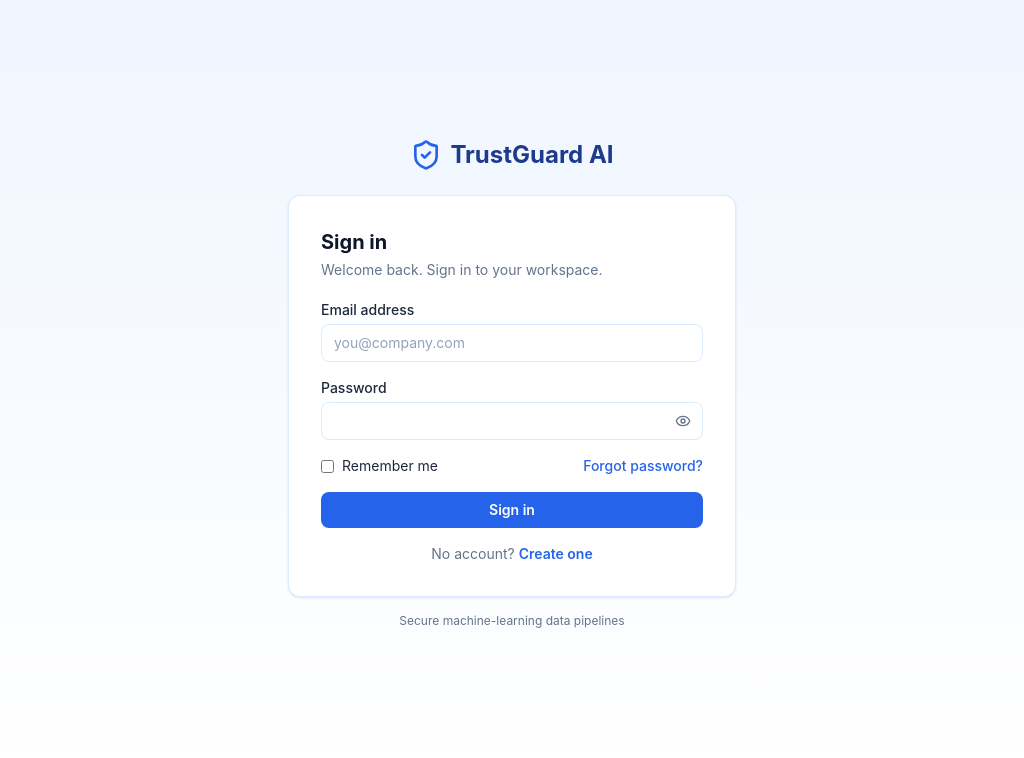
Test: login › validates input then signs in via the backend
Step 1. Click the button "Sign in" → (512, 510), box [321, 492, 703, 528]
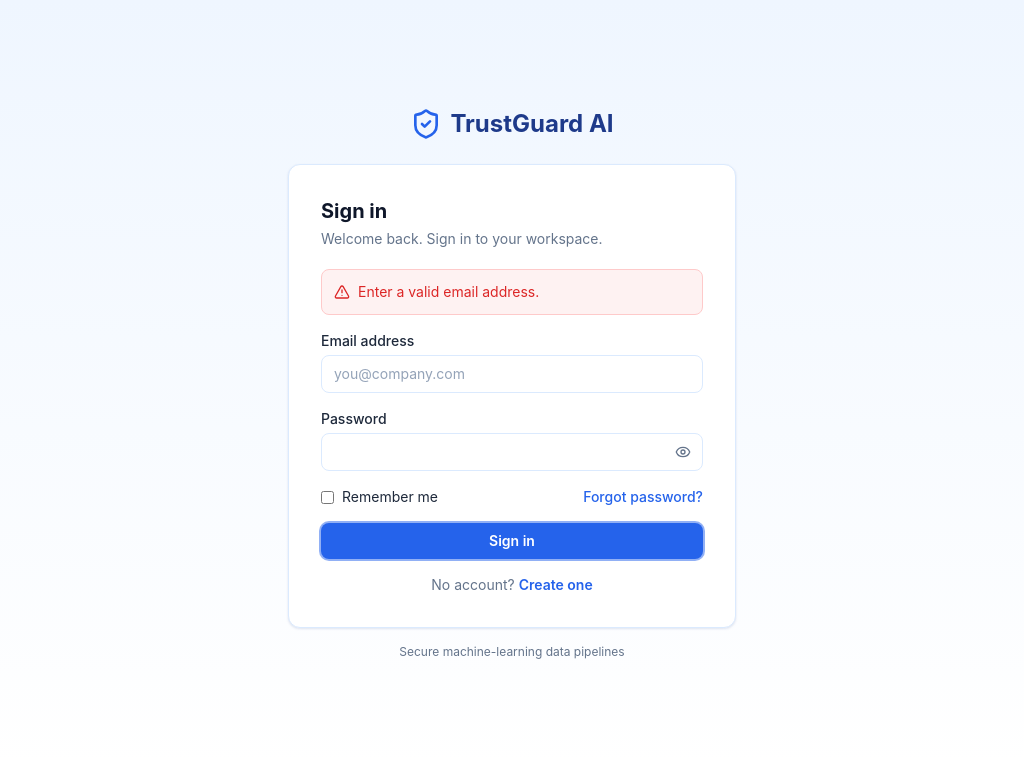
Expected: the text "Enter a valid email address." is shown, [358, 282, 539, 302]
Step 2. Type "a@b.com" into the field labelled "Email address" → (512, 374), box [321, 355, 703, 393]
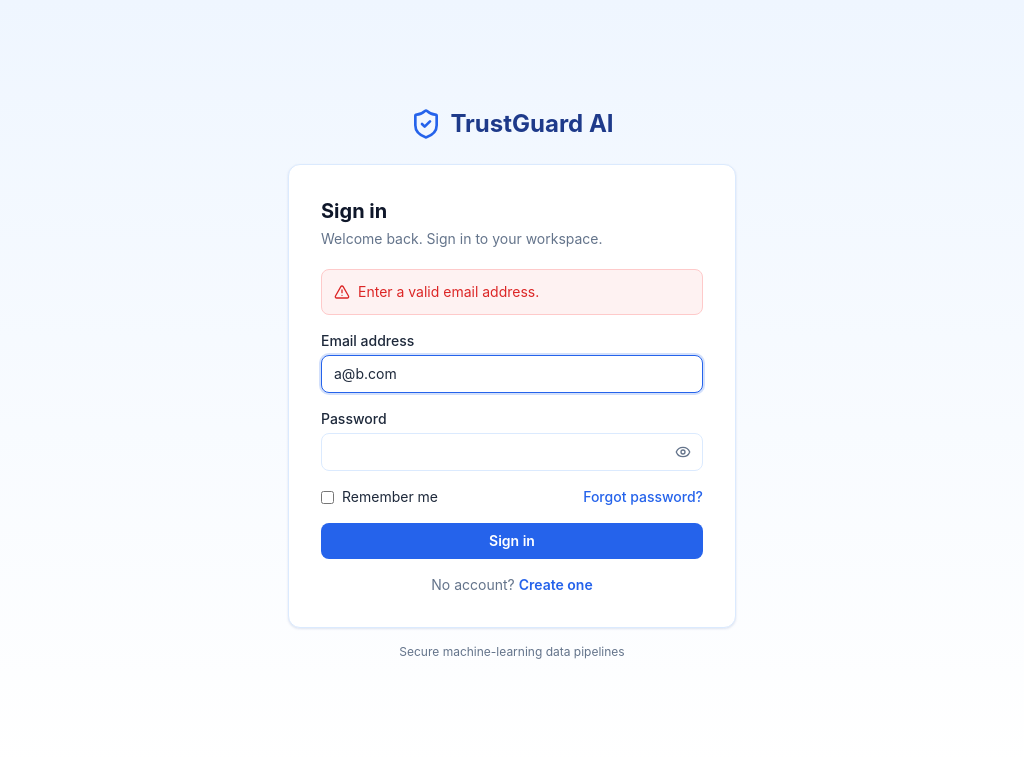
Step 3. Type "Str0ng!Passw0rd" into the password field labelled "Password" → (512, 452), box [321, 433, 703, 471]
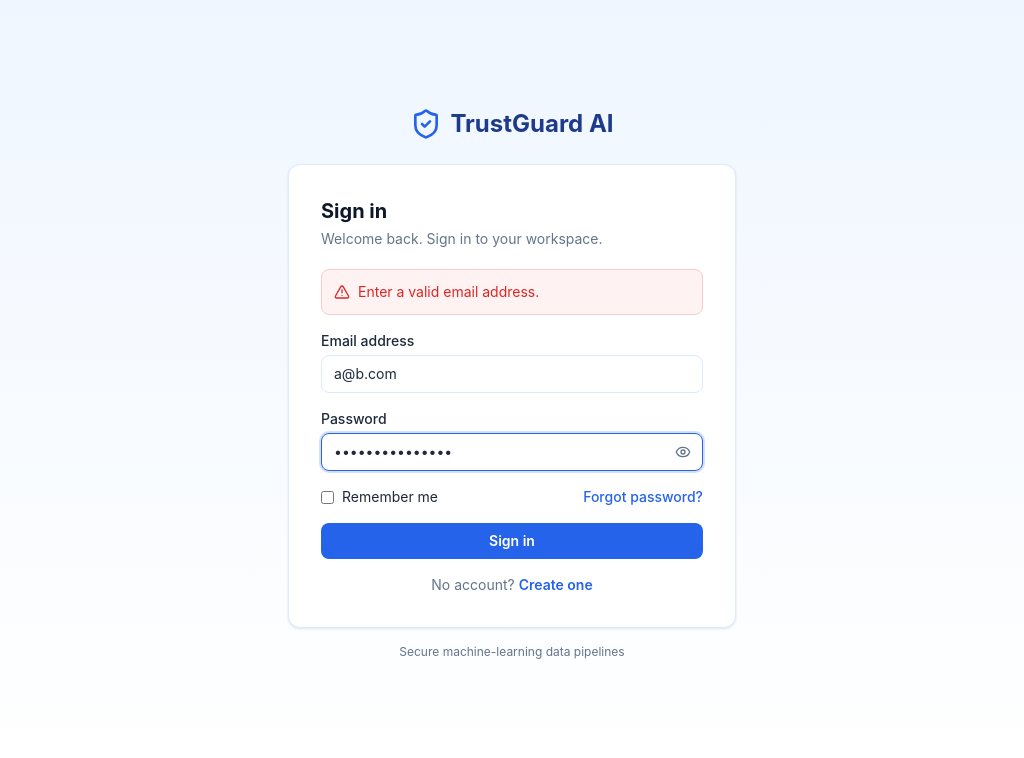
Step 4. Click the checkbox labelled "Remember me" → (328, 497), box [321, 490, 334, 504]
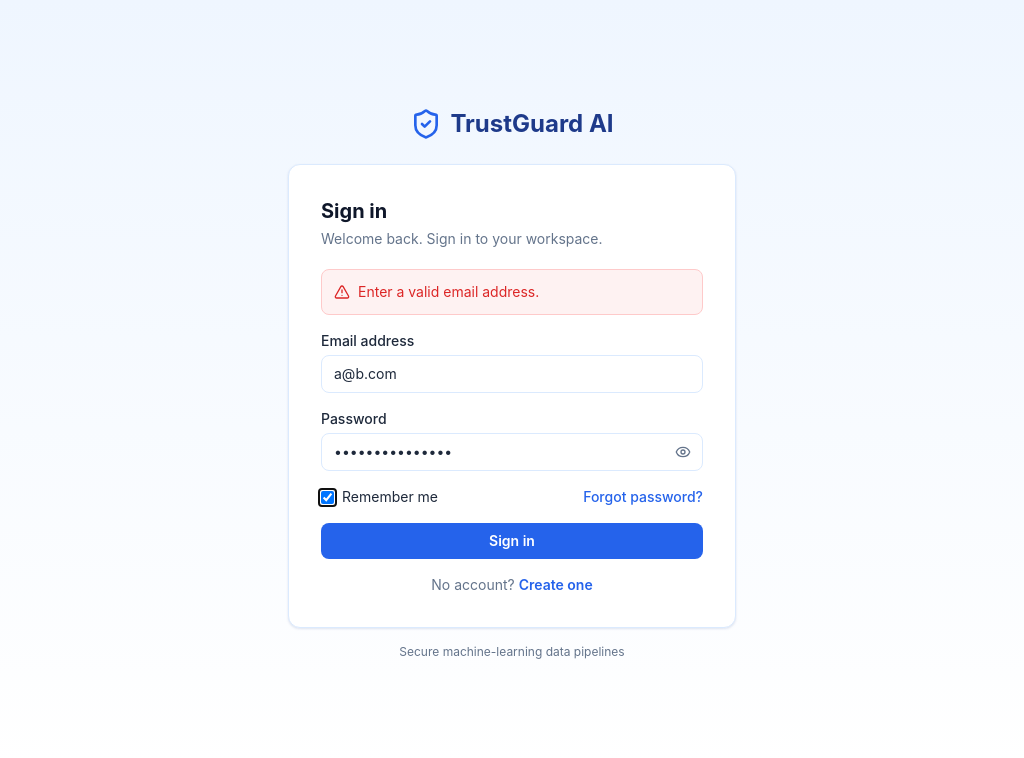
Step 5. Click the button "Sign in" → (512, 541), box [321, 523, 703, 559]
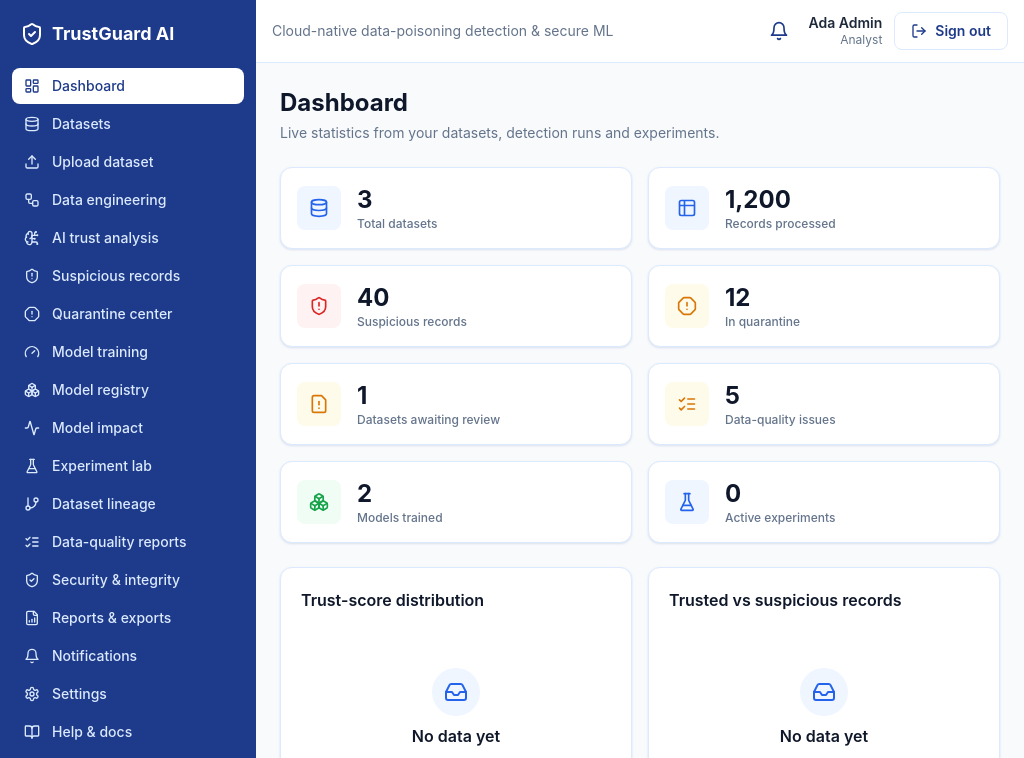
Expected: the heading "Dashboard" is shown, [280, 88, 408, 117]
